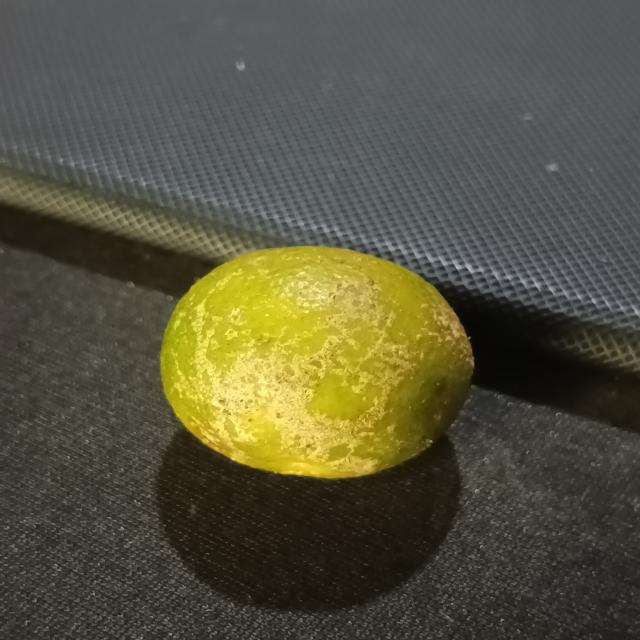thrips: (158, 246, 482, 481)
